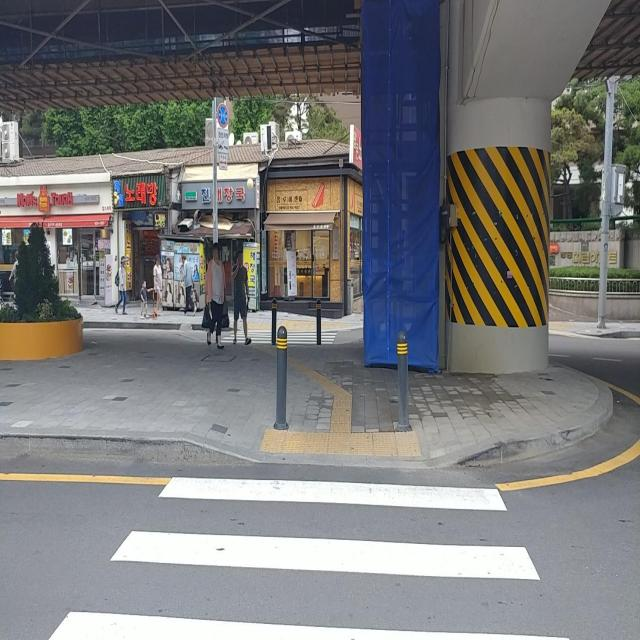횡단보도: (46, 473, 572, 640)
